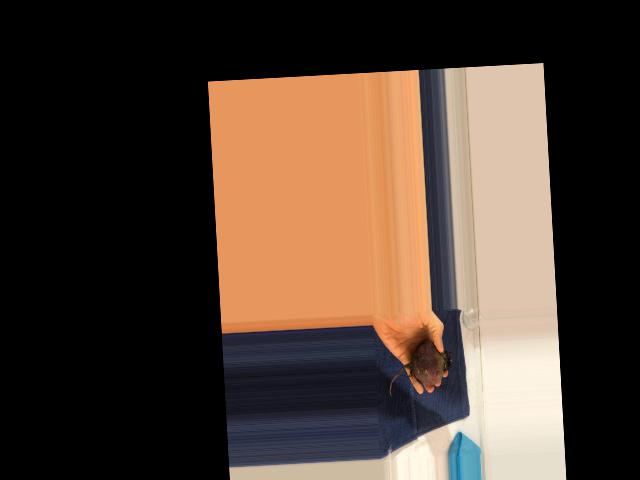beet: (386, 339, 453, 397)
